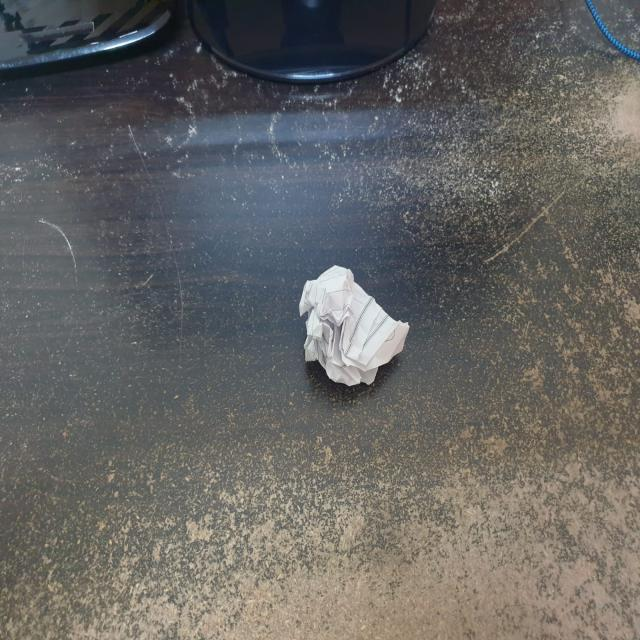Paper: (299, 264, 410, 382)
